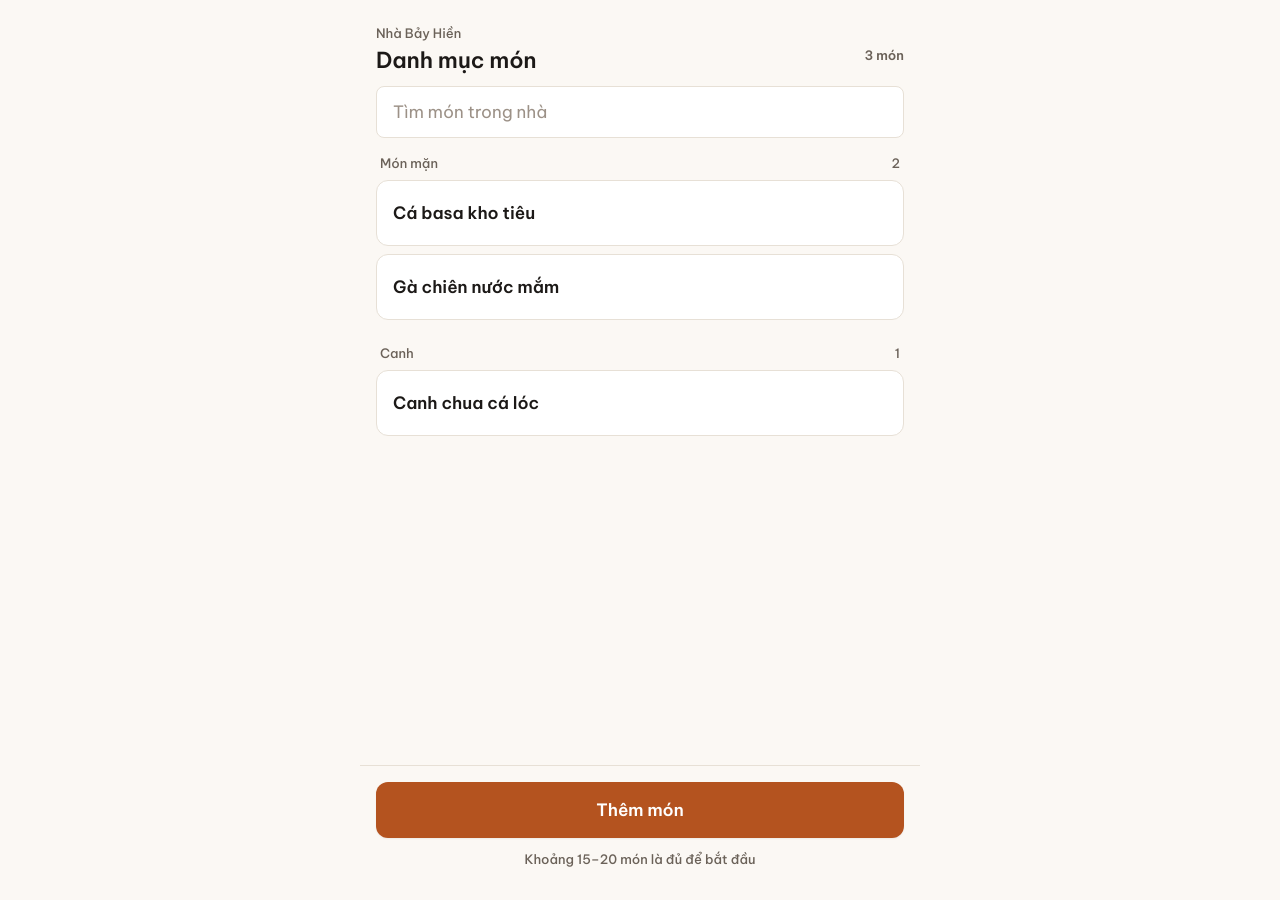
Scenario: DishCatalogScreen (S-05) › bấm một hàng món mở sheet sửa nhãn
Click the button "Canh chua cá lóc". click: [466, 403]
box: [393,381,895,425]
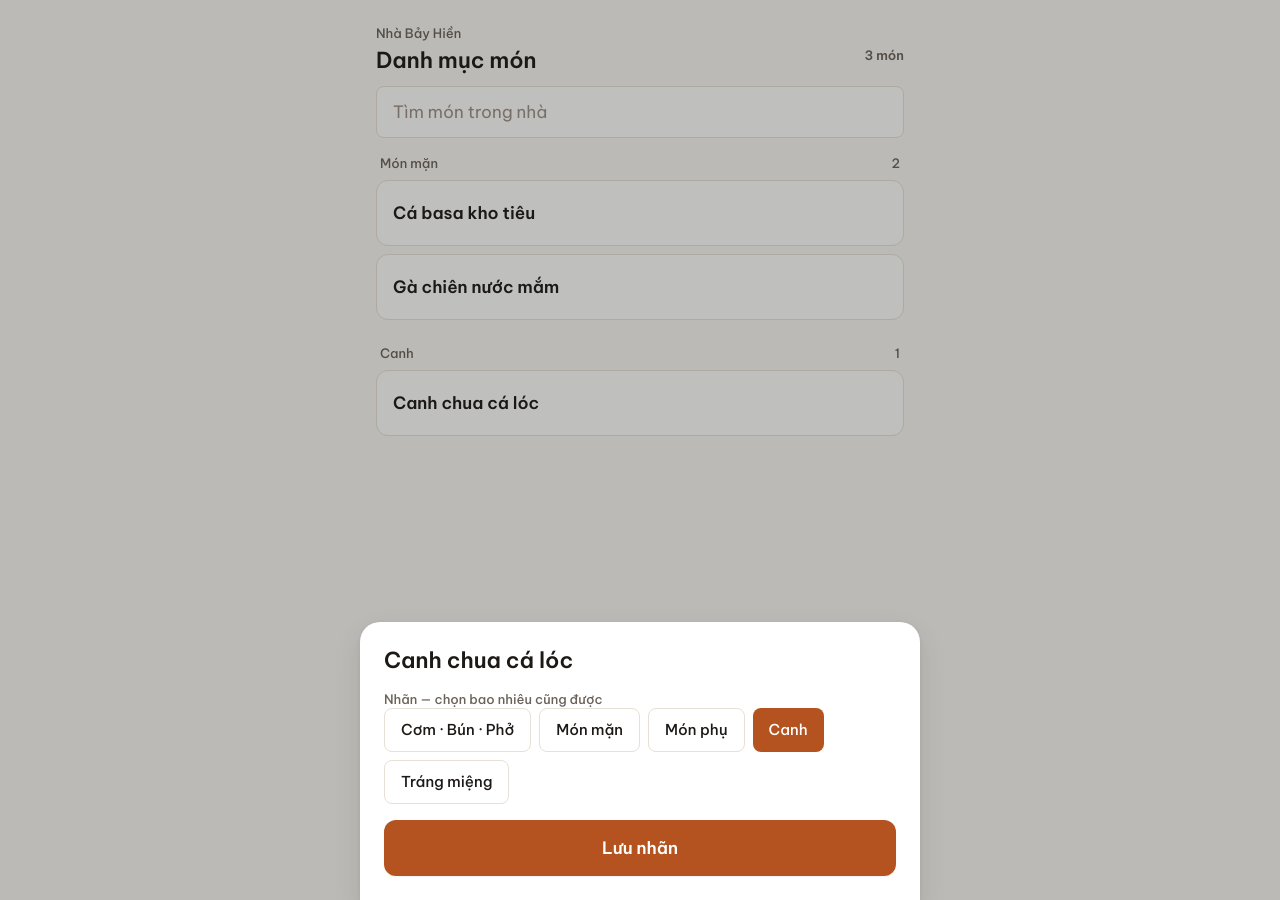
Now the heading "Canh chua cá lóc" is shown, box [384,646,573,674]
Now the button "Lưu nhãn" is shown, box [384,820,896,876]
